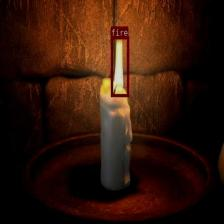fire: (110, 36, 129, 96)
